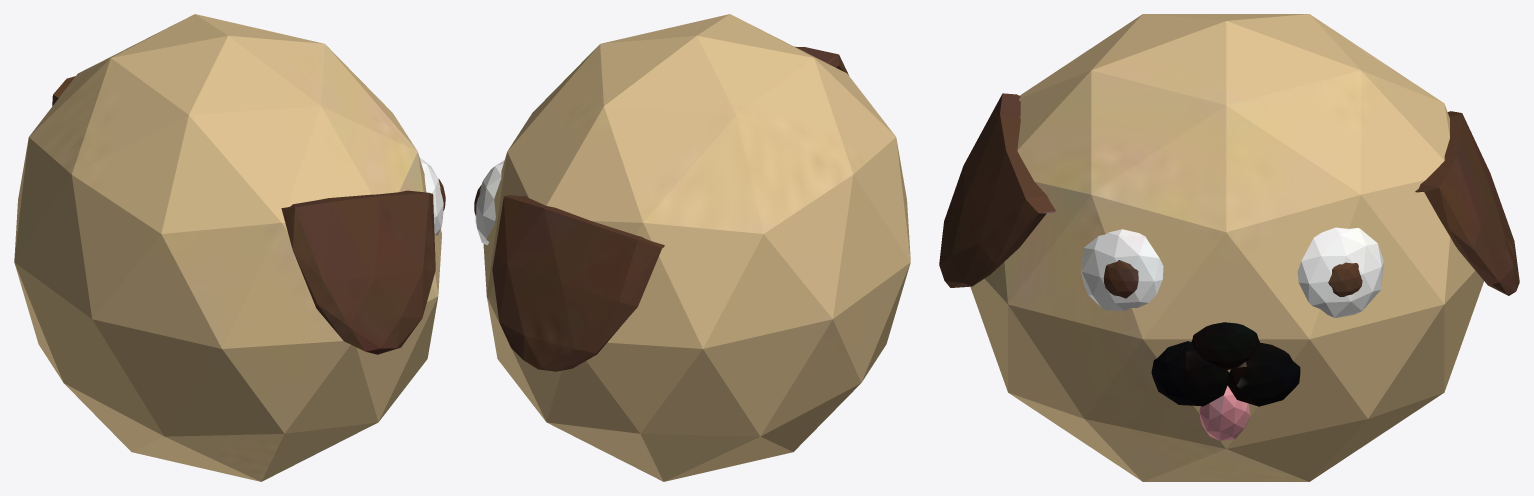
File: carlos-head.dae
3 renders of one model, left to right at view 1: azimuth 30°, elevation 25°; view 2: azimuth 150°, elevation 25°; view 3: azimuth 270°, elevation 25°, orthographic. The views are drawn at different scales.
Visible parts, largest first — view 1: Icosphere; view 2: Icosphere; view 3: Icosphere.
Boxes of the visible parts, <box> form: Icosphere: <box>14,14,445,481</box>; Icosphere: <box>474,14,910,481</box>; Icosphere: <box>939,14,1519,481</box>.
Size of the model in its own units: 0.1626 by 0.2108 by 0.1819.
Materials: 1 (1 with a texture image).
